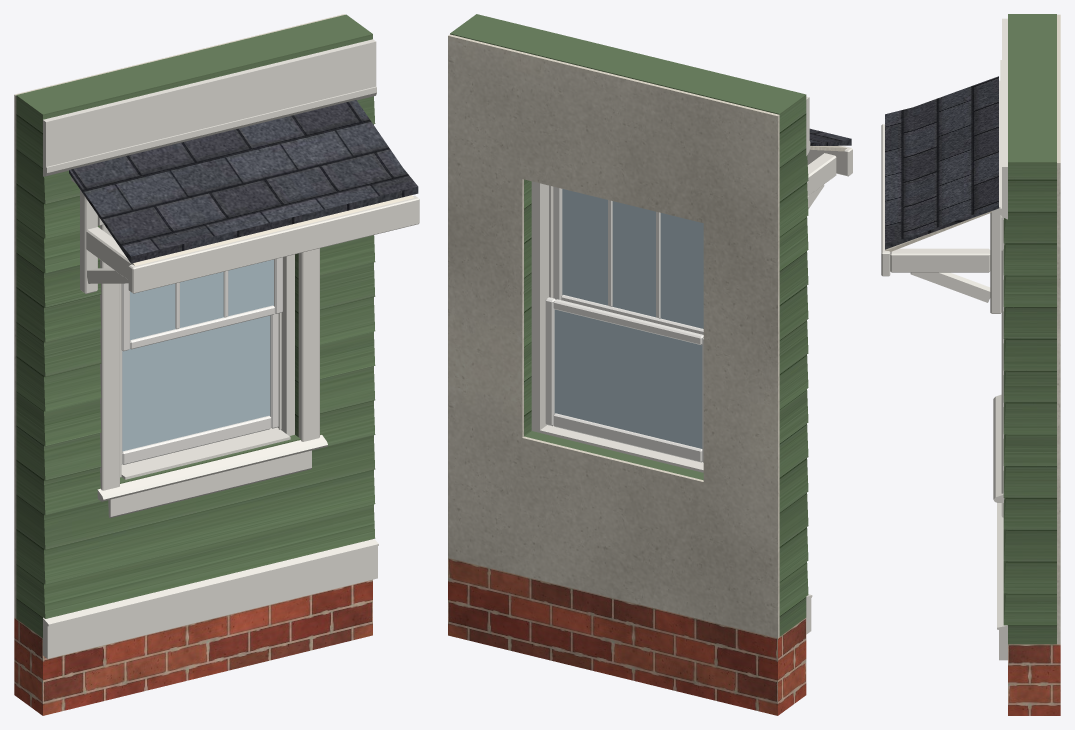
File: wall_siding_window_hood.glb
The picture shows the model from 3 angles, left to right: view 1: azimuth 30°, elevation 25°; view 2: azimuth 150°, elevation 25°; view 3: azimuth 270°, elevation 25°; orthographic projection. The views are drawn at different scales.
Parts seen in each view (by area): view 1: wall_siding_window_hood_siding, wall_siding_window_hood_trim, wall_siding_window_hood_shingles, wall_siding_window_hood_glass, wall_siding_window_hood_brick, wall_siding_window_hood_sash, wall_siding_window_hood_plaster, wall_siding_window_hood_frame; view 2: wall_siding_window_hood_plaster, wall_siding_window_hood_glass, wall_siding_window_hood_brick, wall_siding_window_hood_siding, wall_siding_window_hood_sash, wall_siding_window_hood_frame, wall_siding_window_hood_trim; view 3: wall_siding_window_hood_siding, wall_siding_window_hood_shingles, wall_siding_window_hood_trim, wall_siding_window_hood_brick, wall_siding_window_hood_plaster.
Boxes of the visible parts, x1,y1,x2,y2 form: wall_siding_window_hood_siding: [16, 14, 375, 637]; wall_siding_window_hood_trim: [43, 39, 419, 658]; wall_siding_window_hood_shingles: [69, 100, 418, 263]; wall_siding_window_hood_glass: [122, 259, 273, 451]; wall_siding_window_hood_brick: [14, 579, 372, 715]; wall_siding_window_hood_sash: [121, 257, 282, 464]; wall_siding_window_hood_plaster: [14, 14, 413, 618]; wall_siding_window_hood_frame: [120, 254, 294, 477]; wall_siding_window_hood_plaster: [448, 34, 846, 638]; wall_siding_window_hood_glass: [554, 189, 703, 448]; wall_siding_window_hood_brick: [448, 558, 806, 715]; wall_siding_window_hood_siding: [450, 14, 808, 636]; wall_siding_window_hood_sash: [545, 186, 703, 462]; wall_siding_window_hood_frame: [531, 181, 553, 432]; wall_siding_window_hood_trim: [540, 96, 852, 634]; wall_siding_window_hood_siding: [1003, 14, 1056, 644]; wall_siding_window_hood_shingles: [885, 76, 998, 249]; wall_siding_window_hood_trim: [881, 18, 1007, 660]; wall_siding_window_hood_brick: [1008, 644, 1060, 715]; wall_siding_window_hood_plaster: [885, 14, 1060, 644].
Size of the model in its own units: 2 by 3.48 by 1.02.
8 materials, 4 textured.
